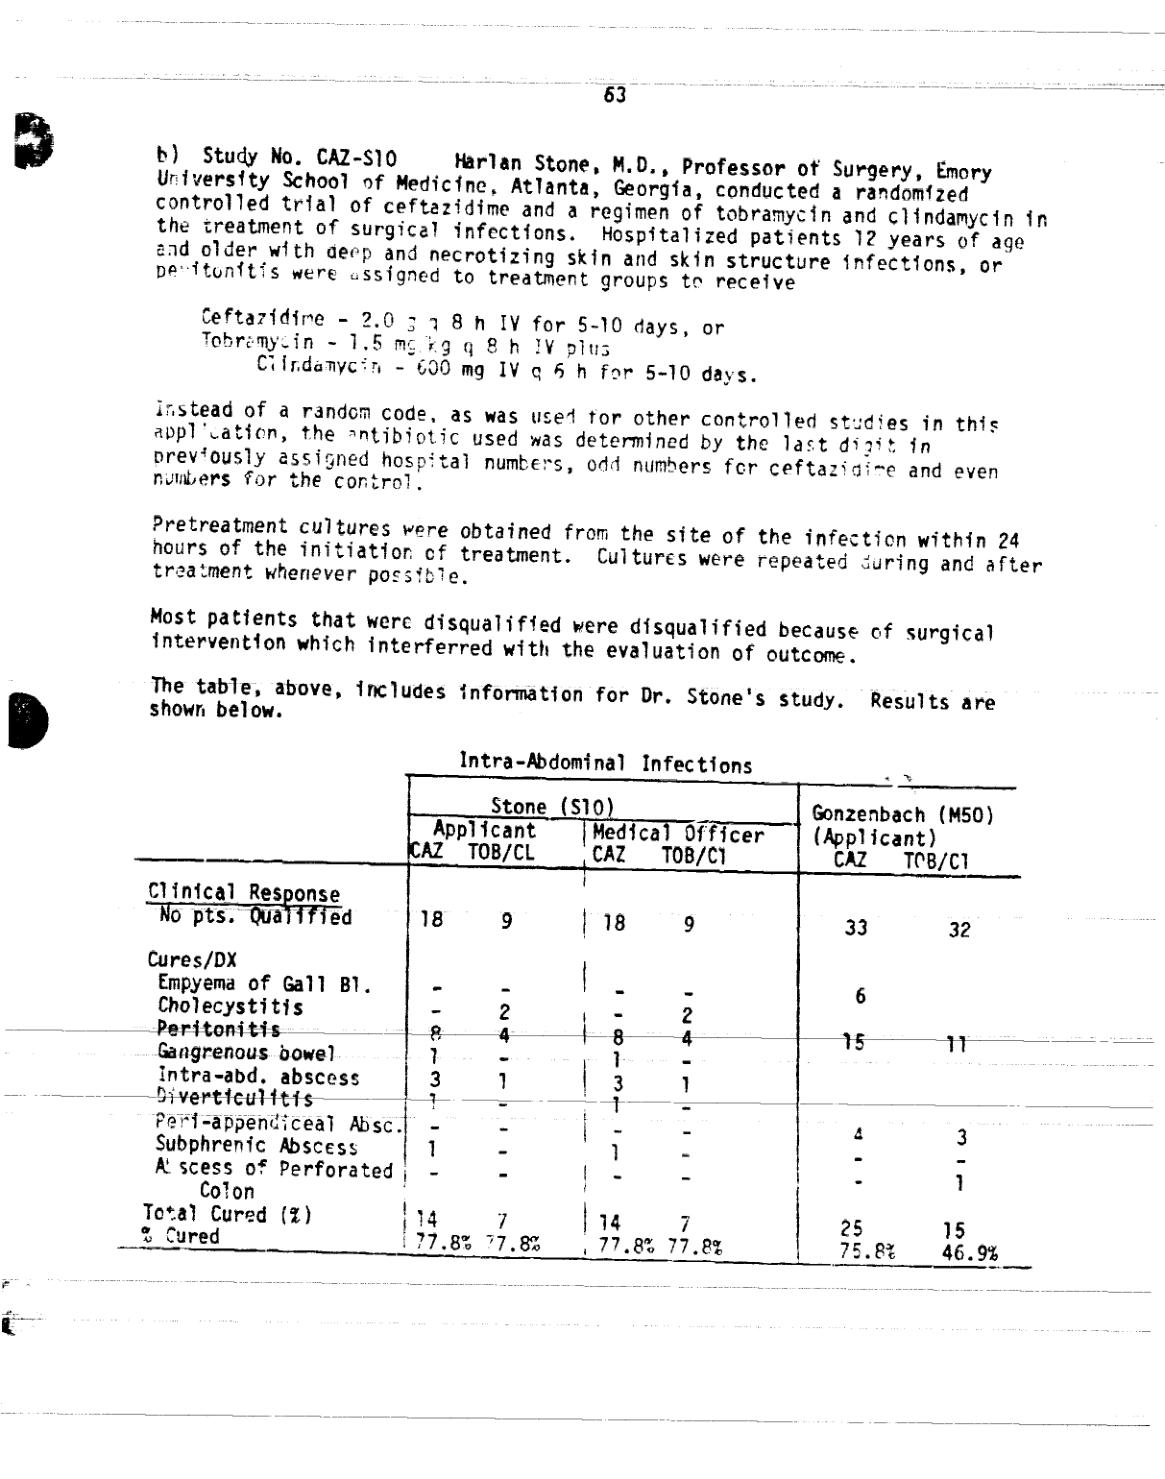partial_lined_merged_cells: (110, 773, 1044, 1276)
